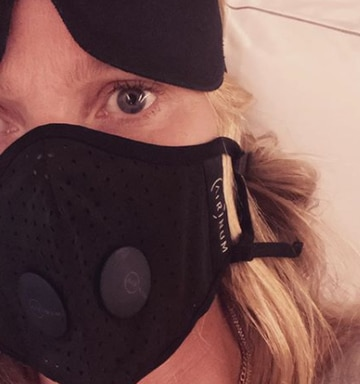with_mask: (3, 2, 267, 384)
